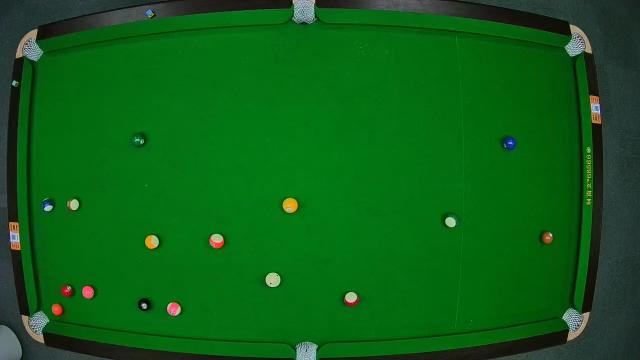bag1: (22, 40, 42, 61)
bag2: (292, 0, 318, 26)
bag3: (566, 35, 586, 57)
bag4: (28, 310, 50, 334)
bag5: (295, 339, 318, 360)
bag6: (562, 308, 582, 332)
ball0: (266, 272, 282, 288)
ball1: (282, 197, 298, 214)
ball10: (40, 196, 54, 212)
ball11: (344, 292, 360, 308)
ball12: (167, 300, 181, 316)
ball13: (209, 232, 225, 248)
ball14: (444, 212, 460, 228)
ball15: (66, 197, 80, 210)
ball2: (502, 136, 518, 150)
ball3: (60, 283, 74, 297)
ball4: (82, 285, 96, 299)
ball5: (51, 302, 63, 316)
ball6: (130, 131, 146, 148)
ball7: (538, 230, 554, 244)
ball8: (136, 296, 152, 310)
ball9: (146, 236, 160, 251)
